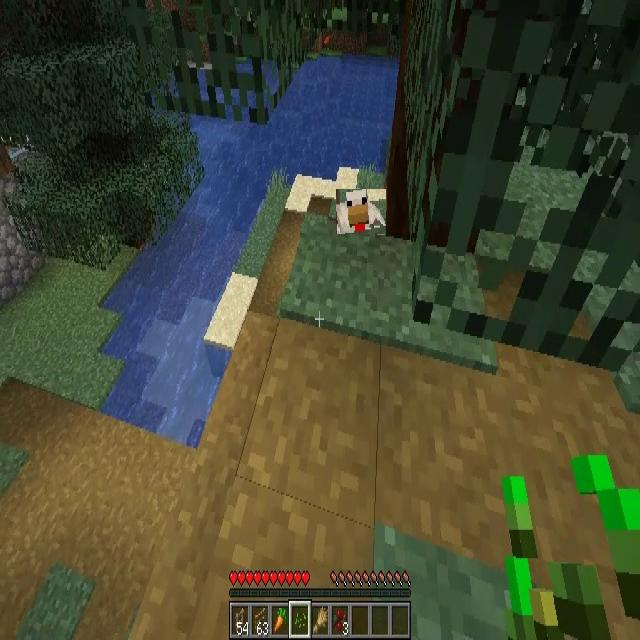duck: (336, 189, 386, 234)
